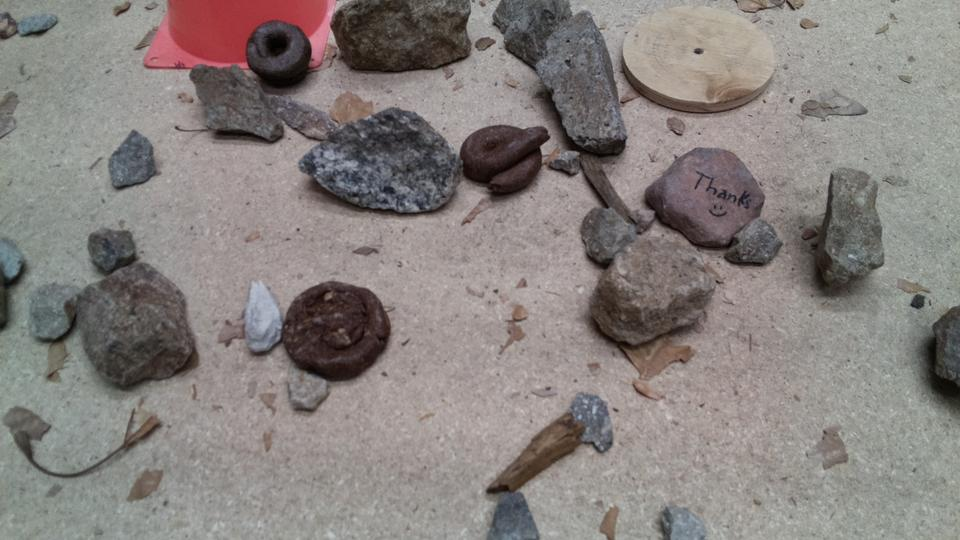poop: (282, 277, 393, 382), (457, 122, 551, 198), (245, 20, 312, 90)
